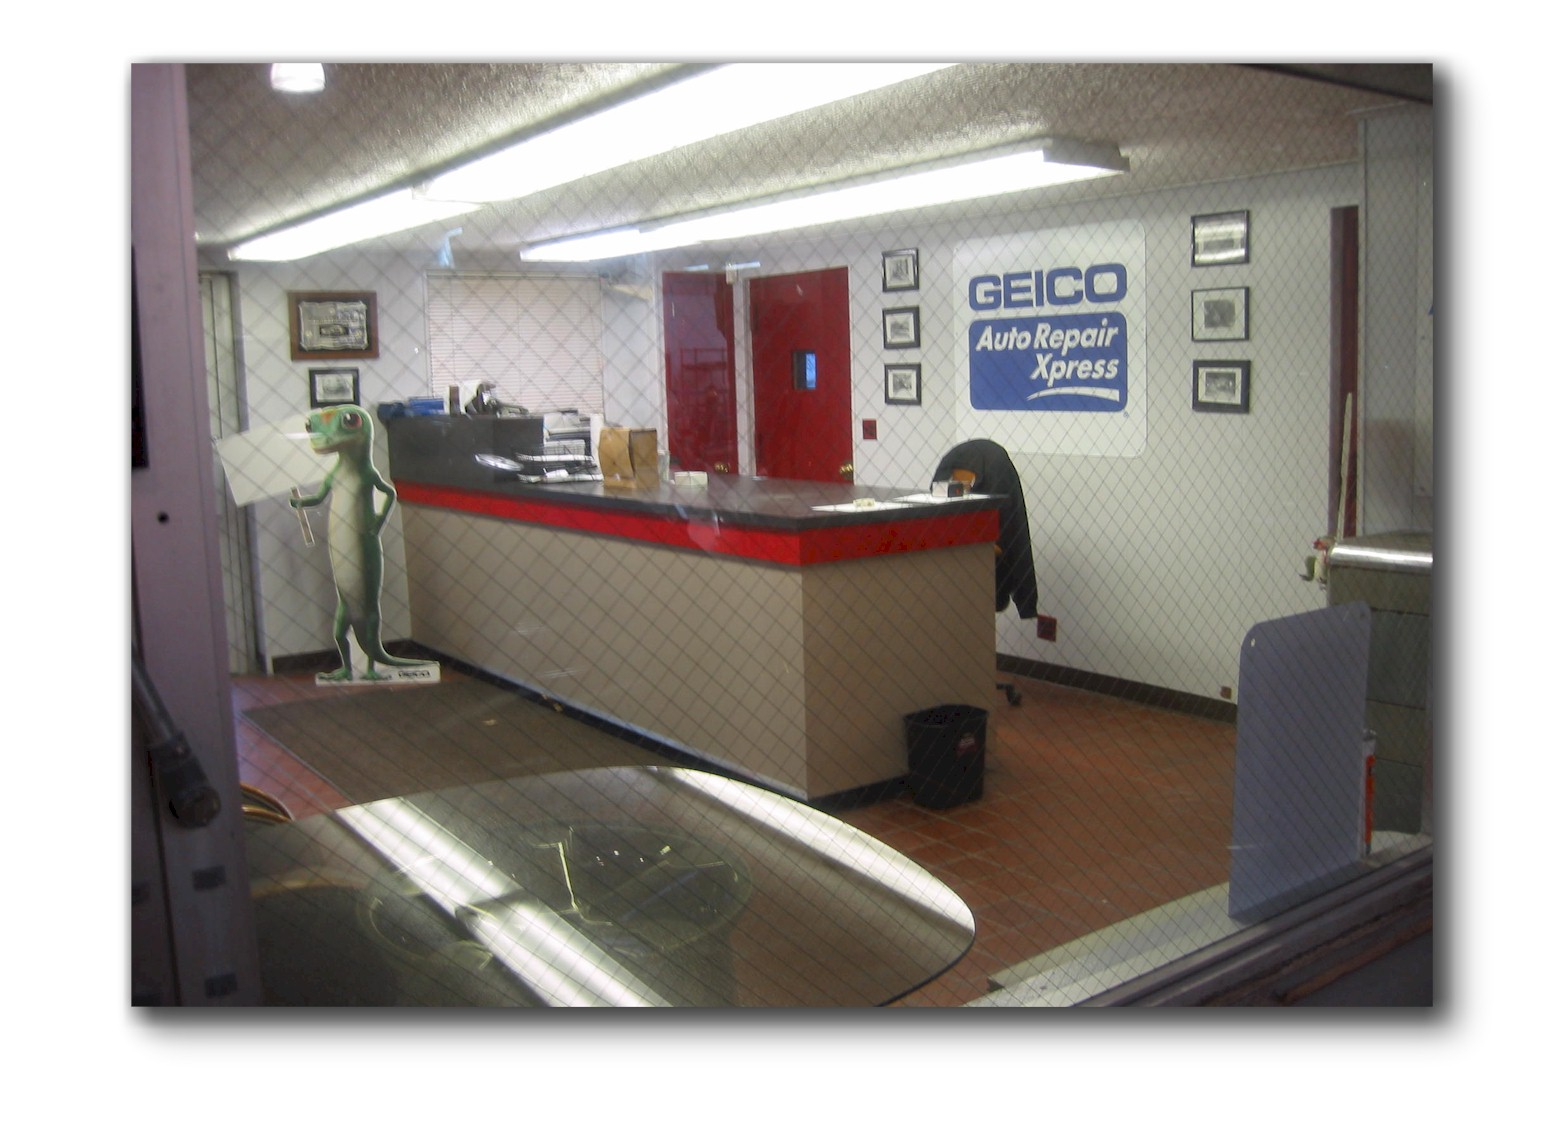Geico: (965, 258, 1133, 311)
